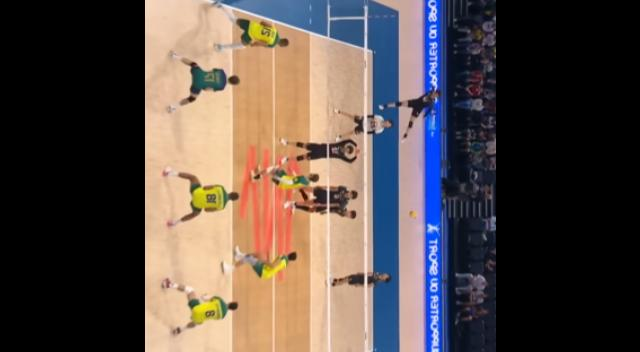Levantador: (243, 157, 321, 192), (322, 265, 392, 291)
Libero: (163, 47, 241, 117), (332, 106, 392, 142)
bola: (404, 204, 418, 220)
